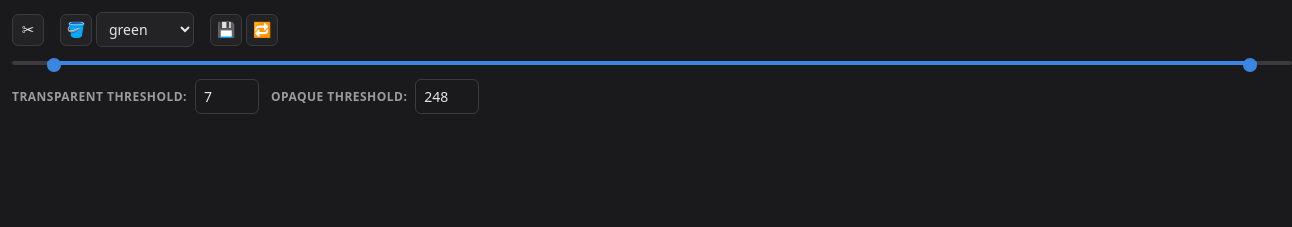
Test: AlphaControls — the threshold banner › shows only on a composite view, and moving the values back clears it (no flag)
Replace the text in the number field labelled "Opaque threshold:" with "200" at coordinates (447, 96), box top-left (415, 79), bottom-right (479, 114)
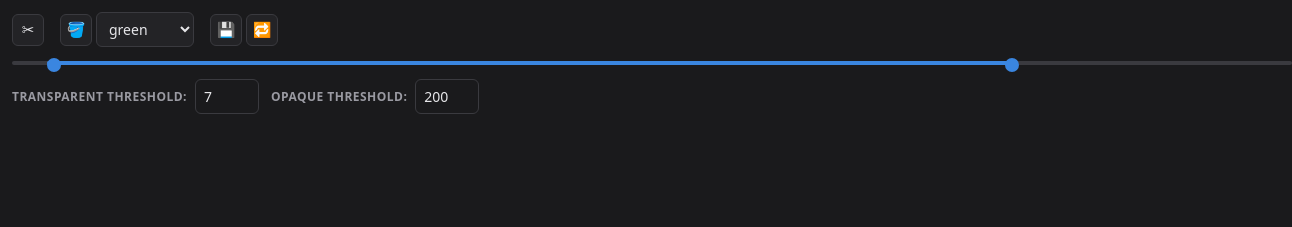
Expected: the text "The mask threshold settings were changed." is not shown
Click the button named "Make the transparent video (ProRes 4444)" at coordinates (28, 30), box top-left (12, 14), bottom-right (44, 46)
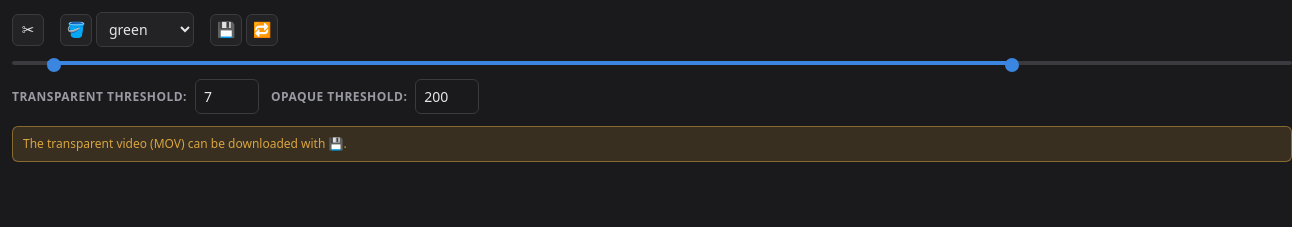
Expected: the text "The transparent video (MOV) can be downloaded with 💾." is shown, top-left (12, 126), bottom-right (1291, 162)
Replace the text in the number field labelled "Opaque threshold:" with "210" at coordinates (447, 96), box top-left (415, 79), bottom-right (479, 114)
Leave the number field labelled "Opaque threshold:", box top-left (415, 79), bottom-right (479, 114)
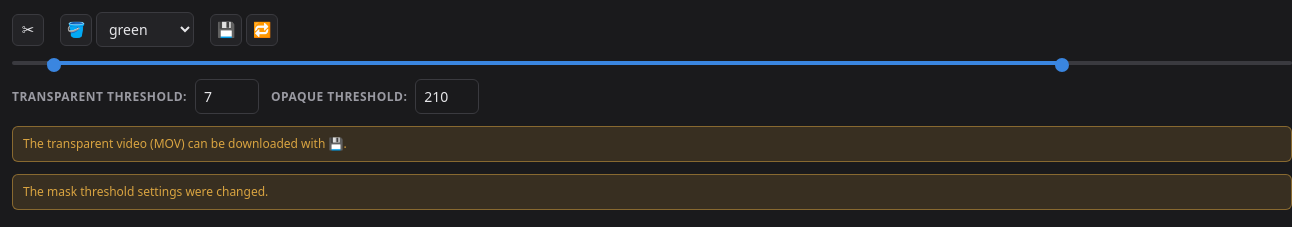
Expected: the text "The mask threshold settings were changed." is shown, top-left (12, 174), bottom-right (1291, 210)
Replace the text in the number field labelled "Opaque threshold:" with "200" at coordinates (447, 96), box top-left (415, 79), bottom-right (479, 114)
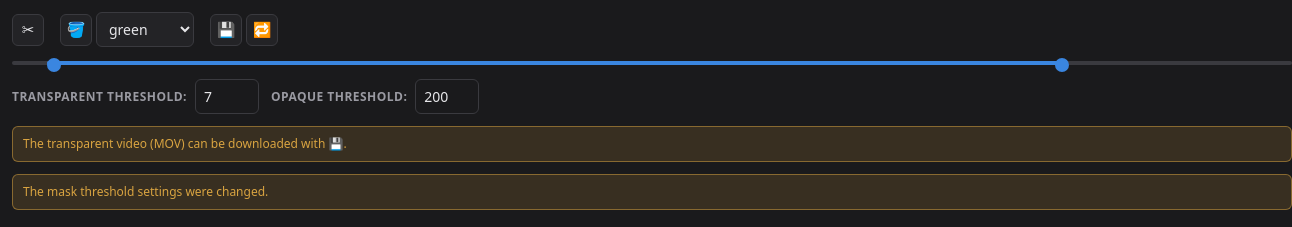
Leave the number field labelled "Opaque threshold:", box top-left (415, 79), bottom-right (479, 114)
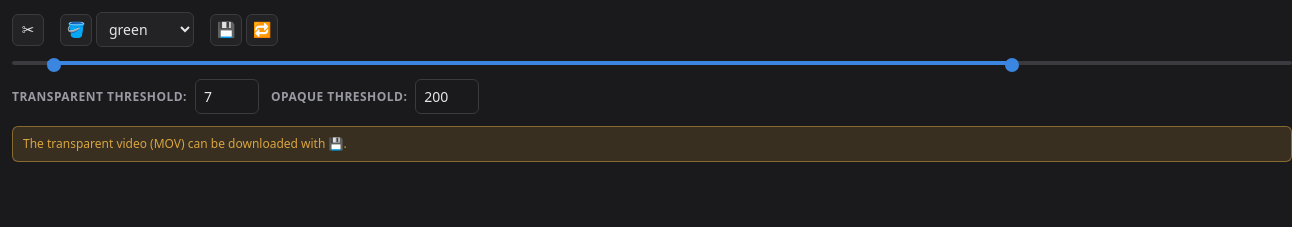
Expected: the text "The mask threshold settings were changed." is gone
Set the slider named "Transparent threshold" to "30" at coordinates (169, 63), box top-left (12, 53), bottom-right (1291, 73)
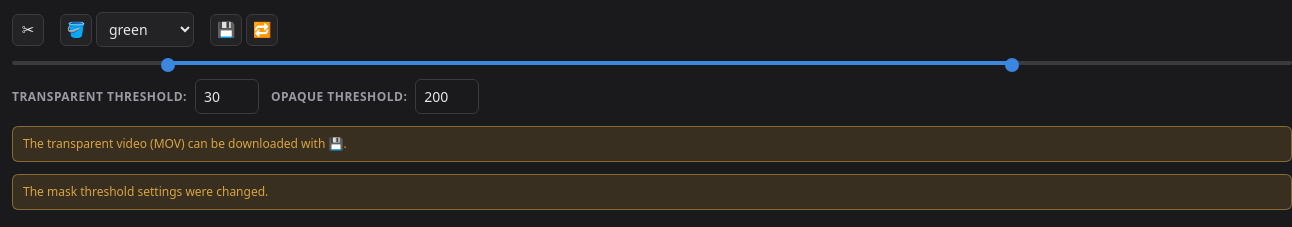
Expected: the text "The mask threshold settings were changed." is shown, top-left (12, 174), bottom-right (1291, 210)
Expected: the number field labelled "Transparent threshold:" holds "30", top-left (195, 79), bottom-right (259, 114)
